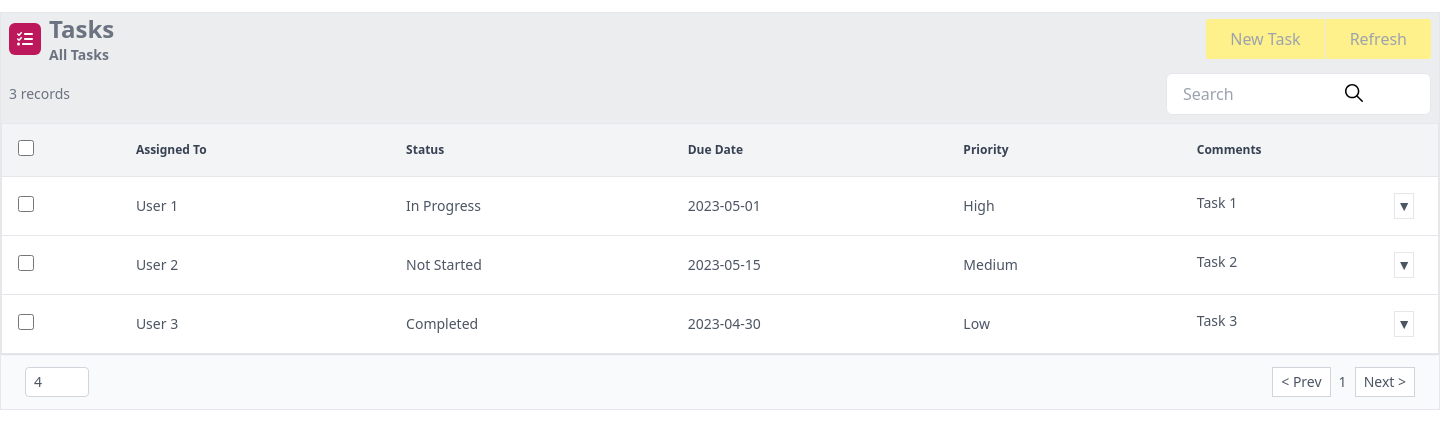
Test case: TaskList › changes tasks per page
Step 1. Replace the text in the number field with "2" → (57, 382), box left=25, top=367, right=89, bottom=397
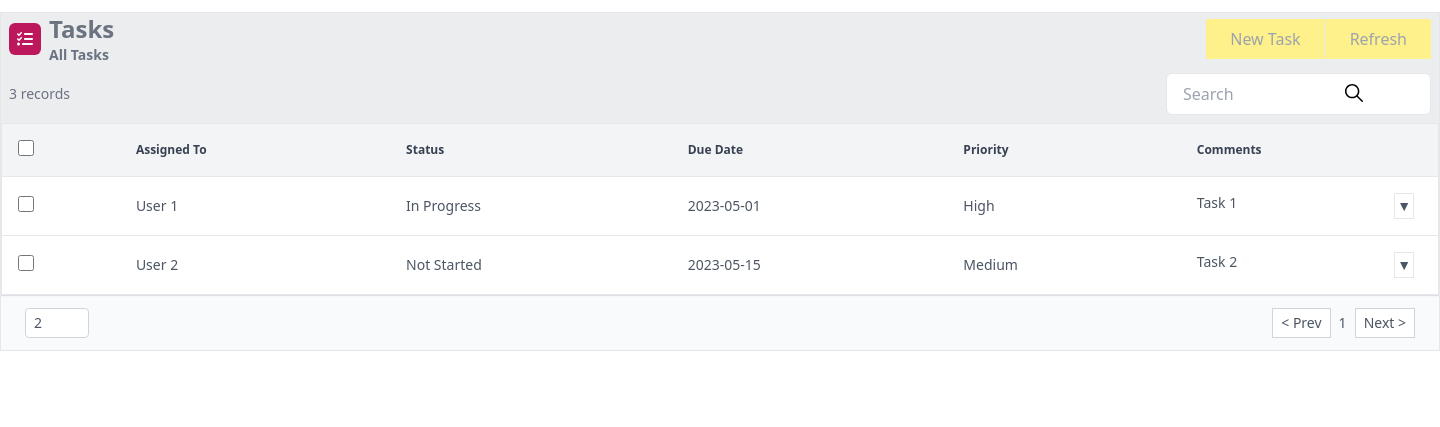
Expected: the text "User 3" is gone
